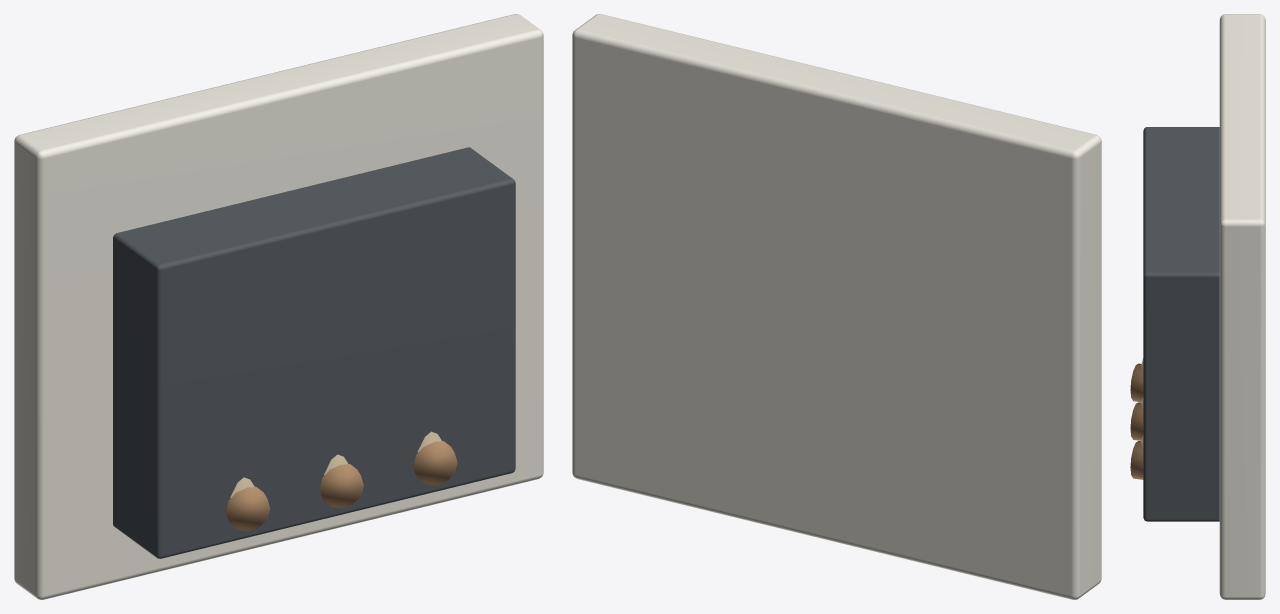
Rendered from atelier-modern-fireplace.glb.
3 views of the same model, side by side, from view 1: azimuth 30°, elevation 25°; view 2: azimuth 150°, elevation 25°; view 3: azimuth 270°, elevation 25° (orthographic). The views are drawn at different scales.
Visible parts, largest first — view 1: metal.184, ceramic.136, legs.211; view 2: ceramic.136; view 3: metal.184, ceramic.136, legs.211.
Boxes of the visible parts, bbox=[...] form: metal.184: bbox=[113, 147, 515, 558]; ceramic.136: bbox=[14, 14, 543, 599]; legs.211: bbox=[226, 441, 457, 531]; ceramic.136: bbox=[572, 14, 1101, 599]; metal.184: bbox=[1143, 127, 1219, 521]; ceramic.136: bbox=[1219, 14, 1265, 599]; legs.211: bbox=[1130, 363, 1143, 479].
Bounding box in the file's own units: 1.3 × 1.1 × 0.3541.
